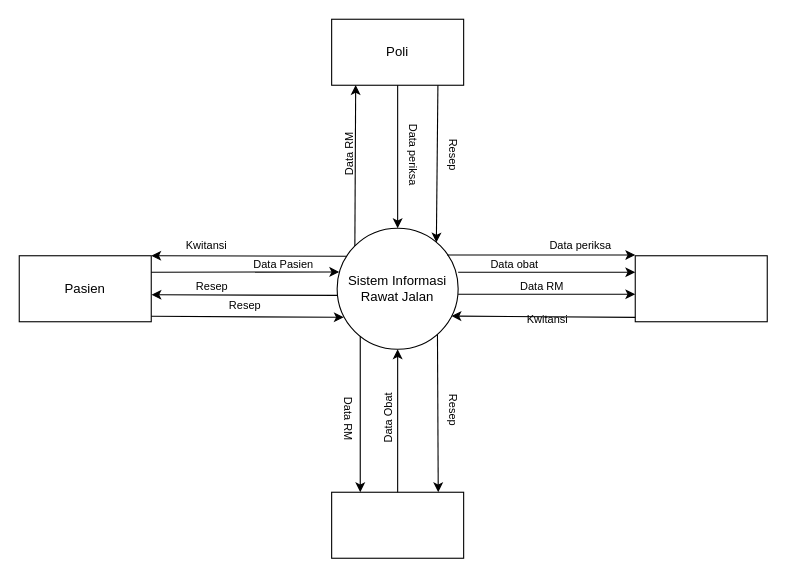
This 787x578 diagram has some shape labels left out. Each missing label, with the centre of its shape:
Apotik: point 397,524
Kasir: point 700,288
